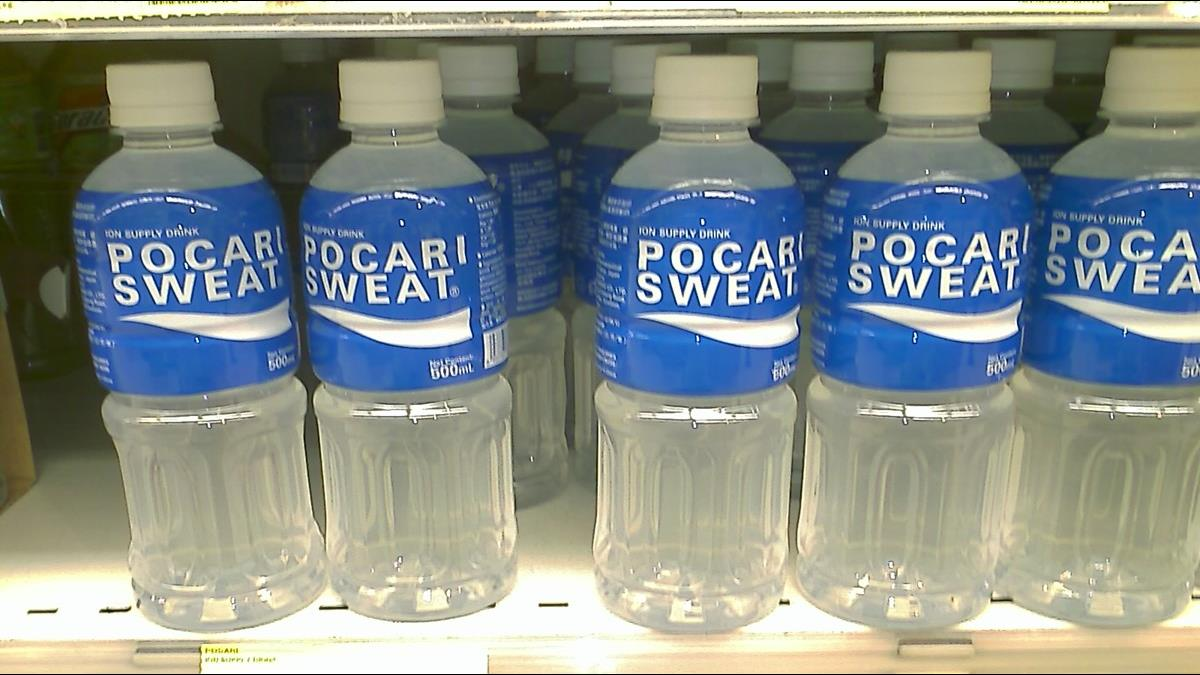POCARI SWEAT: (306, 57, 517, 614), (92, 63, 303, 620), (594, 61, 805, 618), (804, 55, 1015, 612), (1036, 53, 1200, 605)
